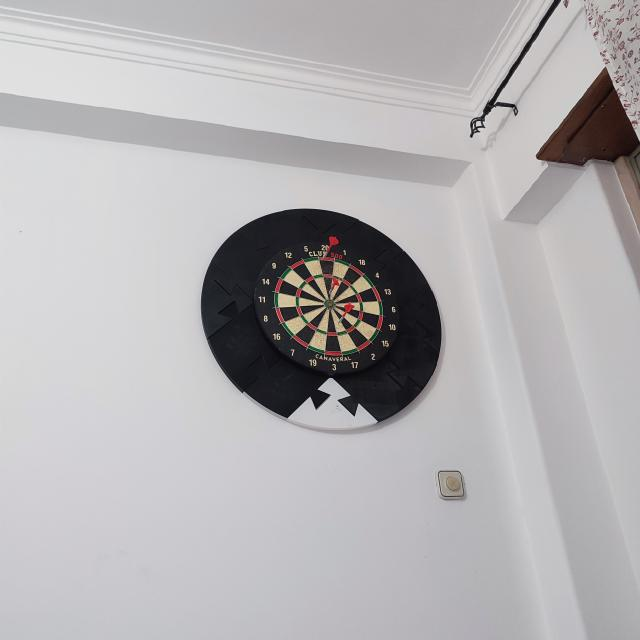dart: (321, 236, 339, 262), (321, 236, 339, 261), (337, 302, 355, 325), (337, 302, 355, 325), (329, 277, 340, 295), (329, 277, 340, 295)
